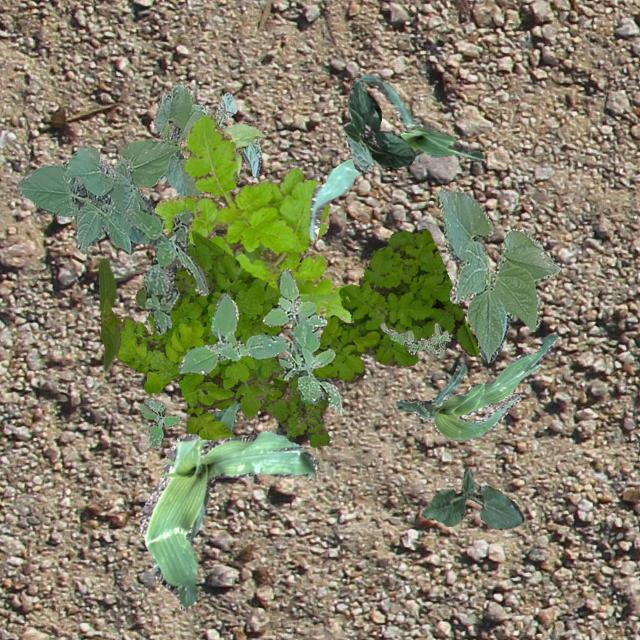crop: (16, 84, 260, 253), (138, 430, 318, 606), (308, 72, 484, 238), (434, 188, 560, 362), (396, 332, 556, 440), (342, 80, 413, 172), (420, 466, 522, 528), (178, 121, 264, 180), (98, 258, 121, 370), (212, 398, 240, 432)
weed: (210, 228, 478, 410), (154, 114, 352, 322), (114, 230, 284, 440), (176, 268, 342, 412), (125, 208, 208, 334), (134, 230, 212, 310), (266, 366, 328, 446), (380, 322, 450, 356), (138, 396, 180, 446)
